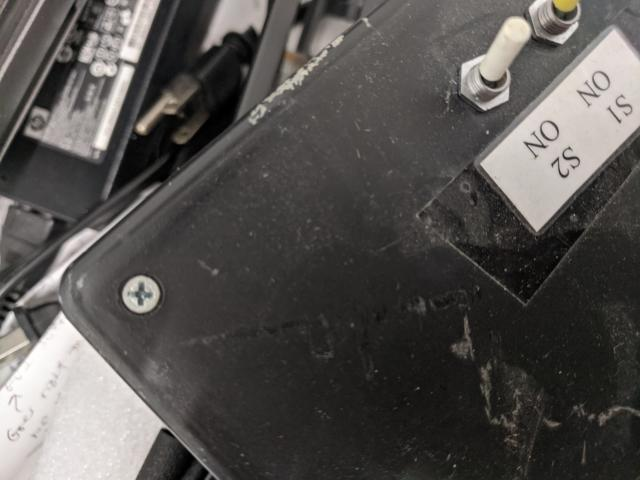CRS: (120, 276, 164, 316)
